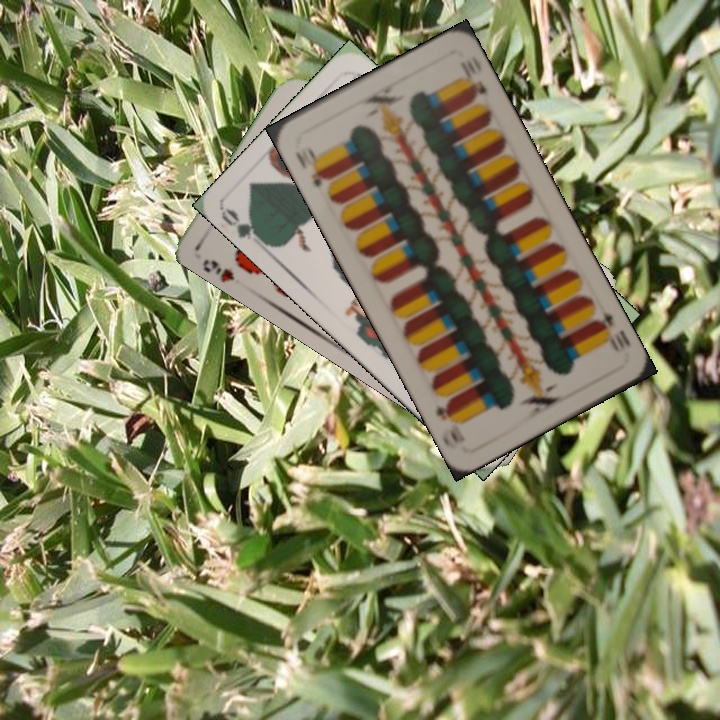E10: (291, 143, 332, 190), (589, 307, 626, 355)
GO: (217, 205, 272, 249)
H9: (198, 254, 237, 284)
